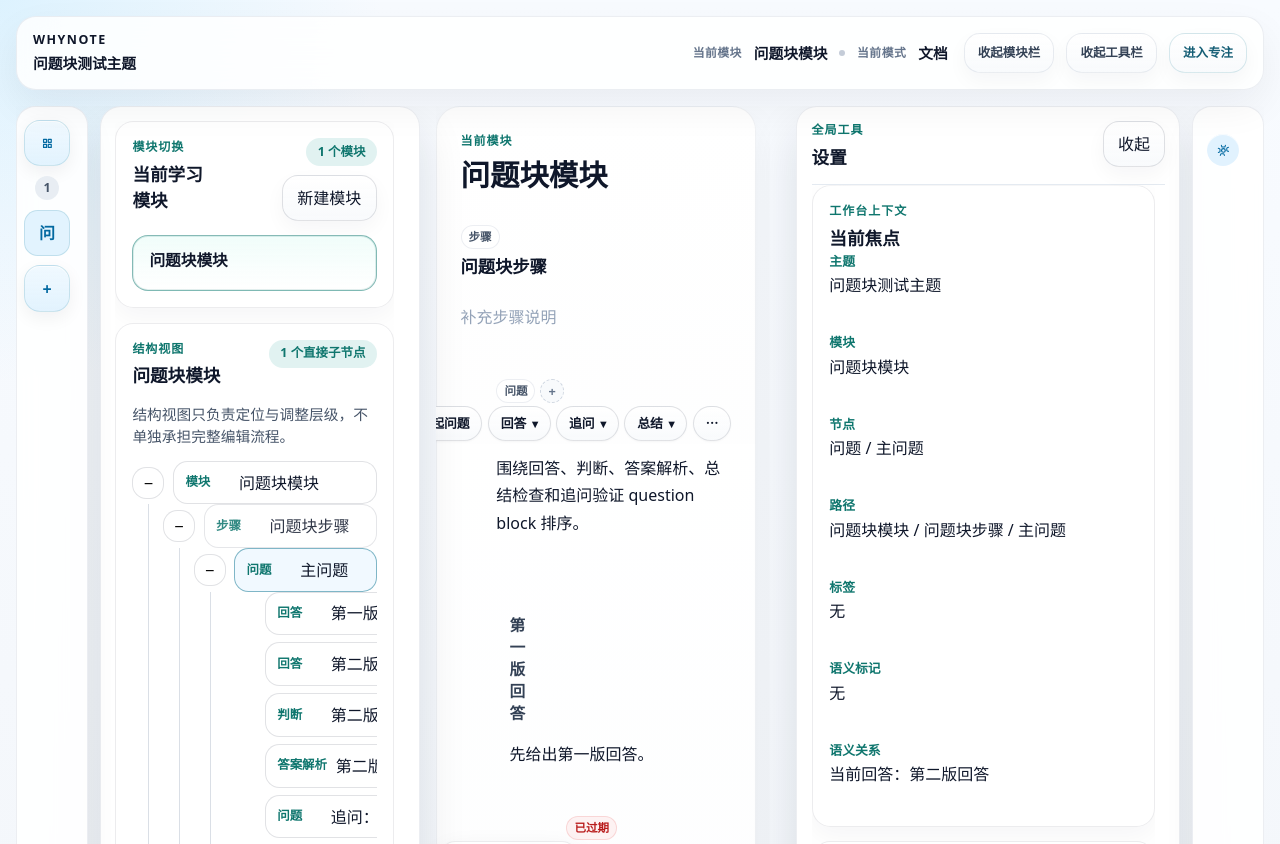
Test case: clicking the question body enters the light editing state without moving the toolbar back to the block shell
This screenshot has width=1280, height=844.
What coordinates should you click on to do the following:
click the button with aria-label "主问题 内容"
I would click on:
 (609, 496)
Its box is [491, 451, 726, 541].
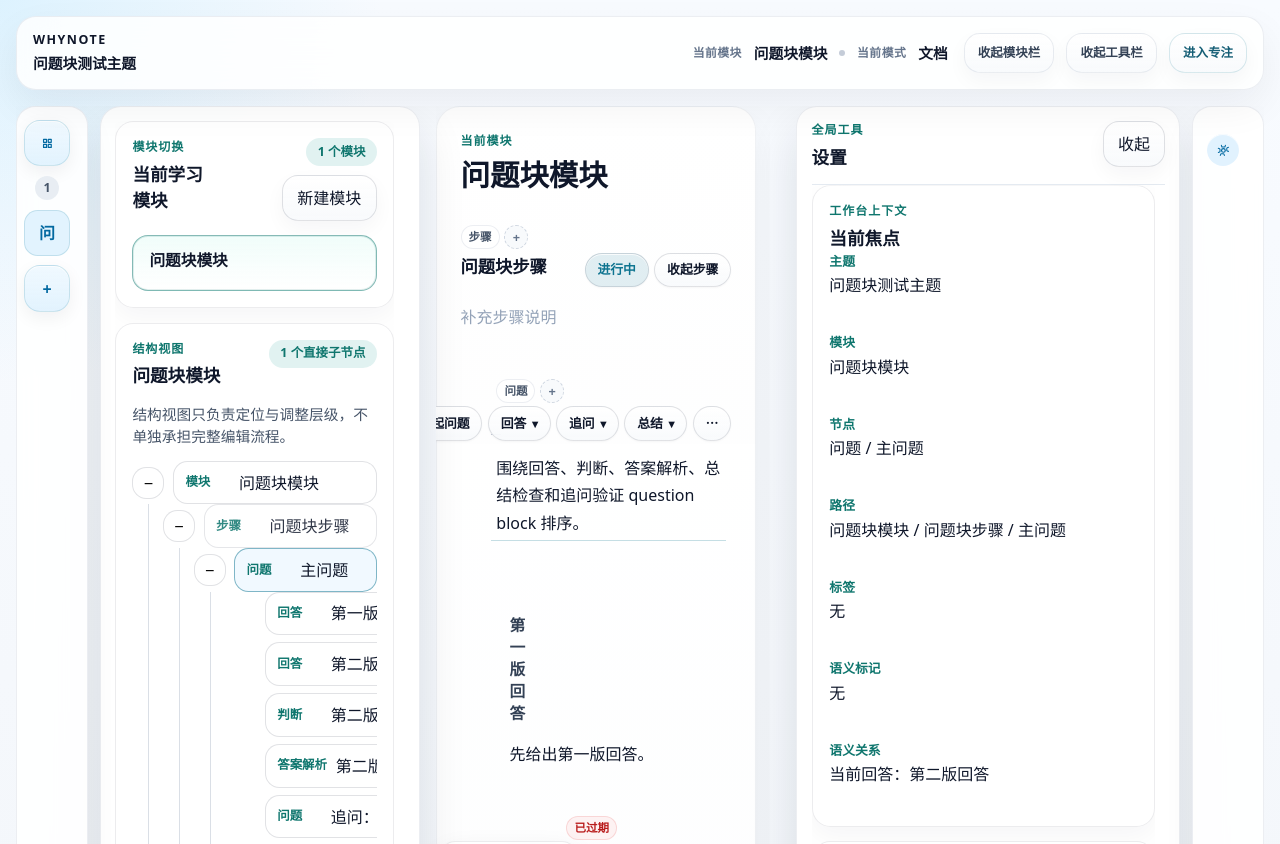
Now the text box named "主问题 内容" is shown, box [491, 451, 726, 541]
